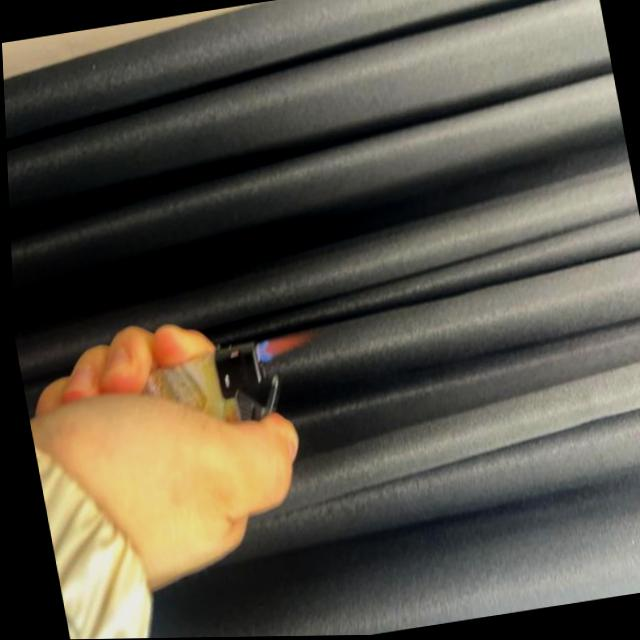helmet: (251, 328, 317, 363)
